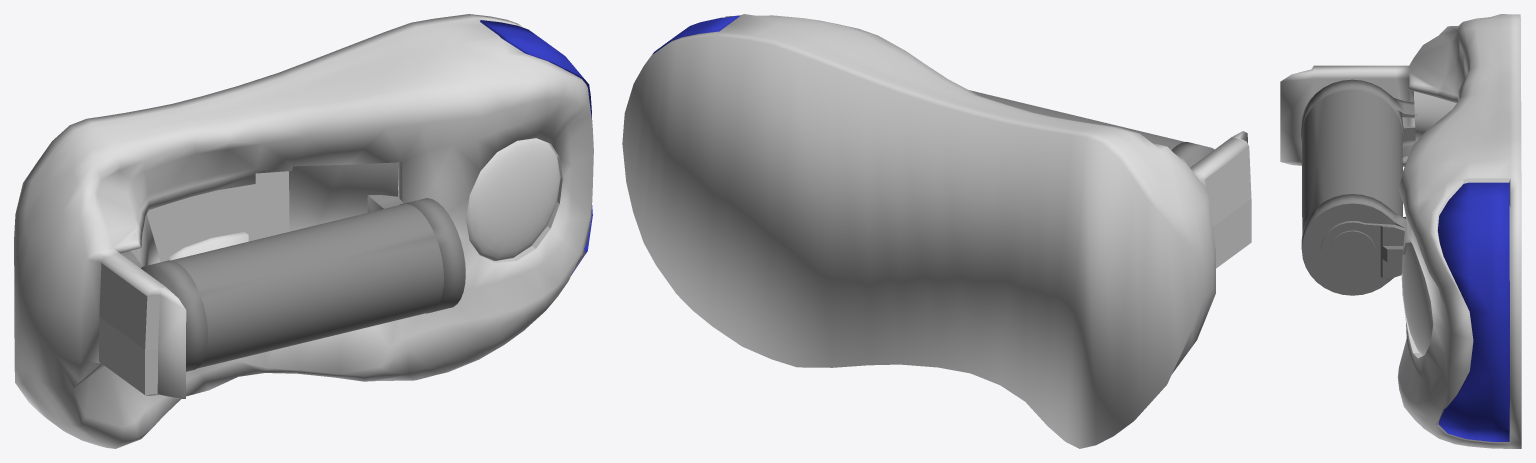
Rendered from LAnkleRoll.dae.
3 views of the same model, side by side, from view 1: azimuth 30°, elevation 25°; view 2: azimuth 150°, elevation 25°; view 3: azimuth 270°, elevation 25° (orthographic). The views are drawn at different scales.
Parts seen in each view (by area): view 1: root_018; view 2: root_018; view 3: root_018.
Boxes of the visible parts, x1,y1,x2,y2 form: root_018: (14, 14, 593, 448); root_018: (622, 14, 1251, 448); root_018: (1280, 14, 1521, 448).
Bounding box in the file's own units: 160 × 64.67 × 90.49.
